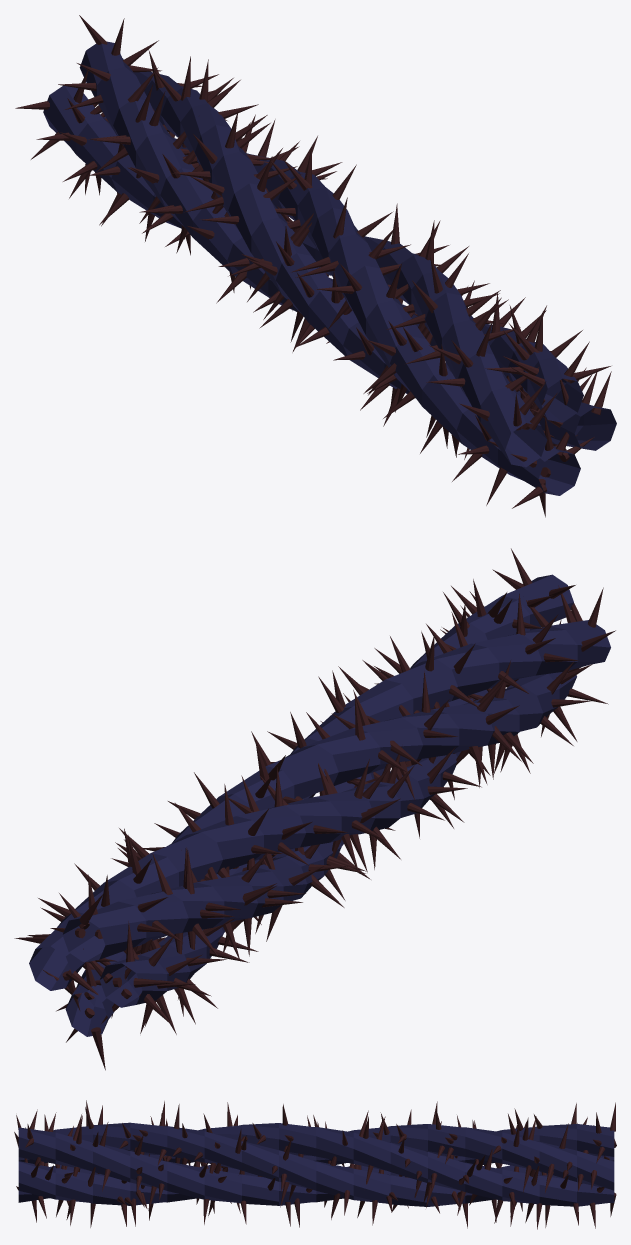
Rendered from Thorn.fbx.
3 renders of one model, top to bottom at view 1: azimuth 30°, elevation 25°; view 2: azimuth 150°, elevation 25°; view 3: azimuth 270°, elevation 25°, orthographic. The views are drawn at different scales.
Visible parts, largest first — view 1: Vine; view 2: Vine; view 3: Vine.
Boxes of the visible parts, x1,y1,x2,y2 form: Vine: (15, 15, 616, 517); Vine: (14, 548, 615, 1070); Vine: (14, 1100, 616, 1229).
Bounding box in the file's own units: 552 × 552 × 2531.
